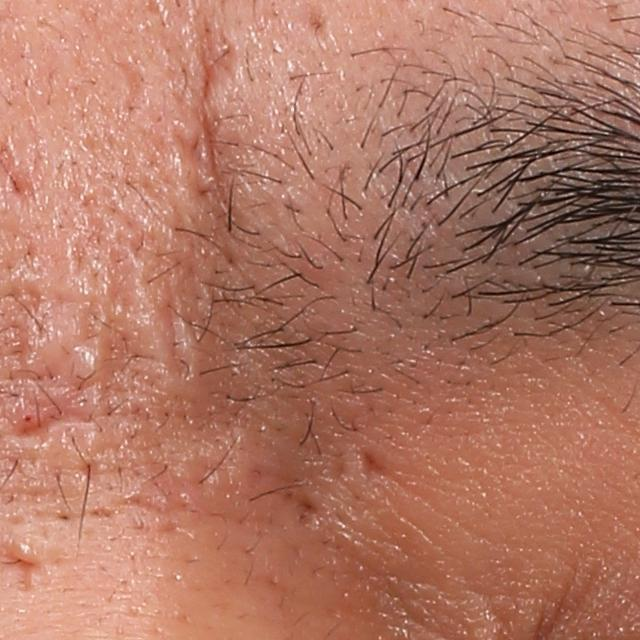atrophic_scar: (10, 402, 99, 441), (115, 51, 154, 107), (7, 545, 47, 589), (350, 444, 390, 474)
